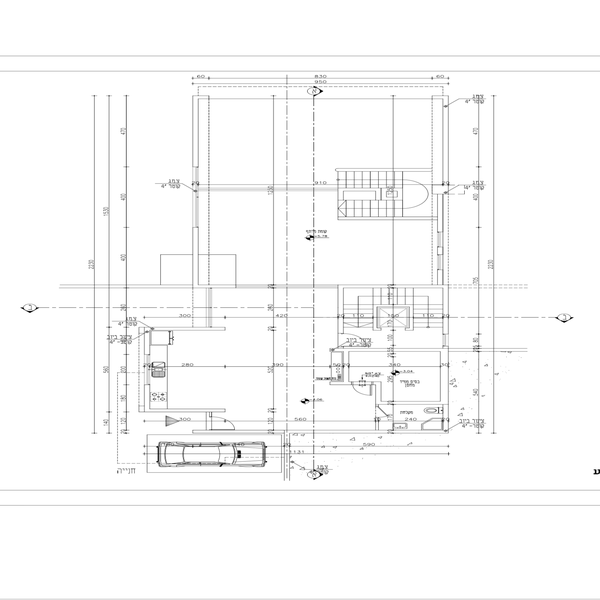room: (188, 91, 453, 291)
